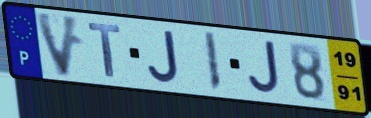8: (287, 42, 328, 103)
I: (202, 30, 224, 94)
J: (246, 40, 282, 97), (146, 29, 182, 85)
T: (86, 21, 123, 80)
V: (32, 9, 83, 80)
